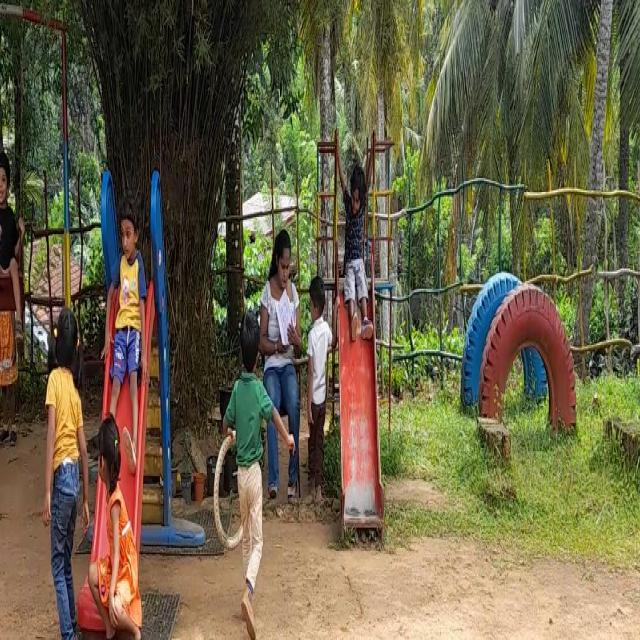adult: (263, 225, 303, 501)
child: (39, 299, 83, 640), (223, 309, 266, 635), (106, 192, 148, 454), (97, 415, 133, 640), (302, 268, 334, 508), (343, 157, 374, 361), (0, 148, 24, 334)
